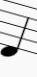D: (1, 1, 30, 59)
